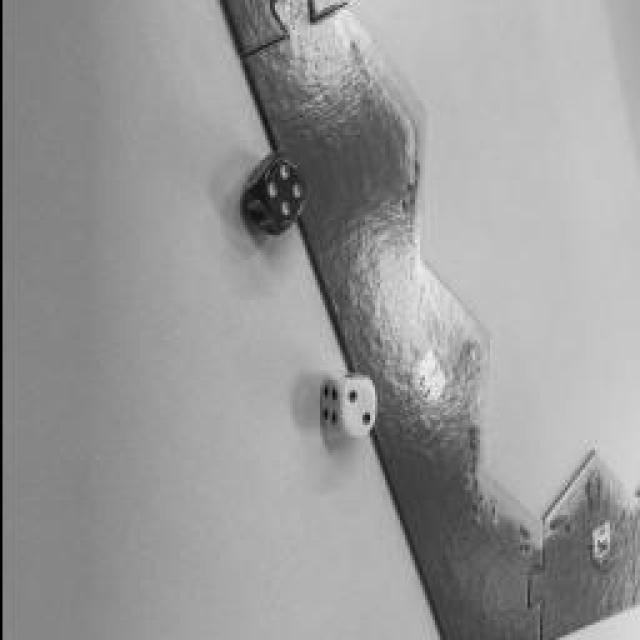dice_2: (338, 379, 374, 436)
dice_4: (258, 156, 304, 226)
